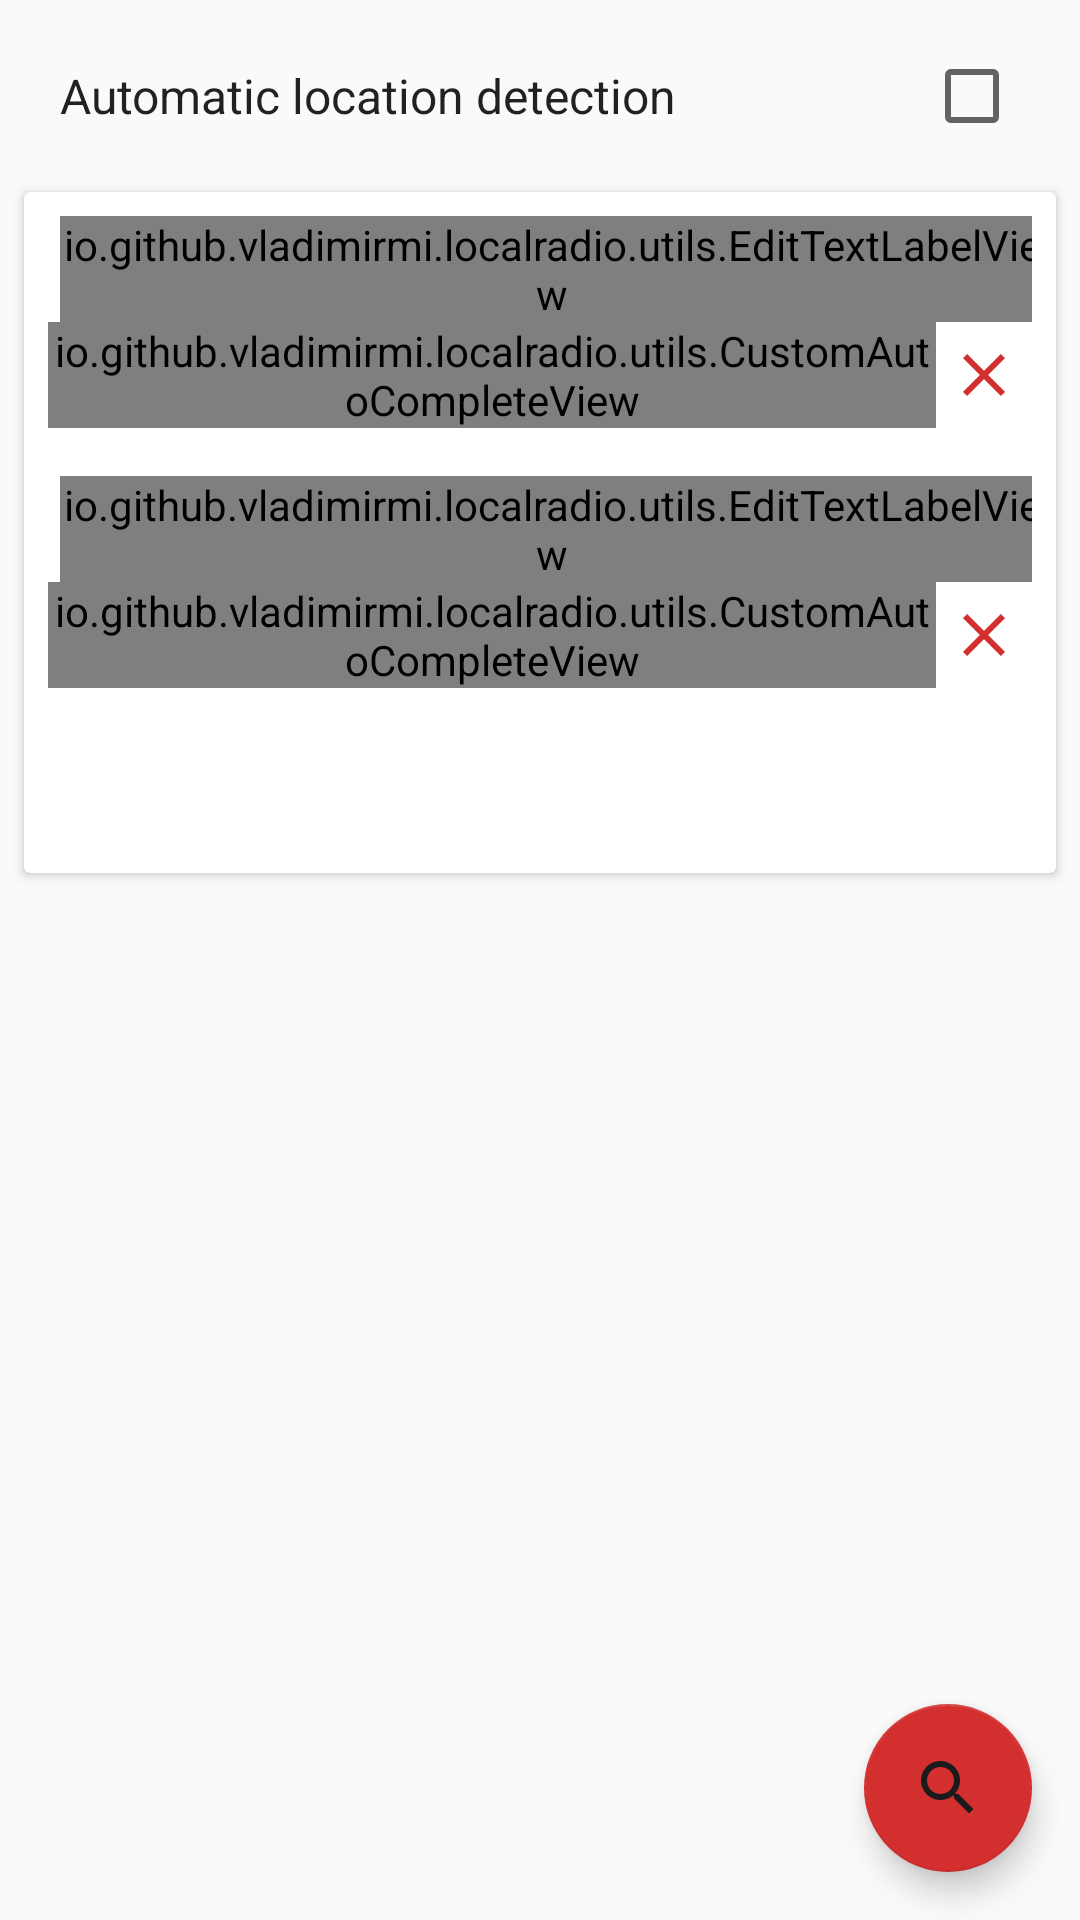

Icons on this 1080x1920 Android screen, each with its box as bbox(x1, y1, x2, y2):
clear city field: bbox(963, 614, 1005, 656)
clear country field: bbox(963, 354, 1005, 396)
search: bbox(864, 1704, 1032, 1872)
